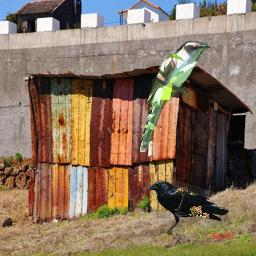Crow: (145, 179, 229, 235)
Cuckoo: (139, 41, 211, 152)
